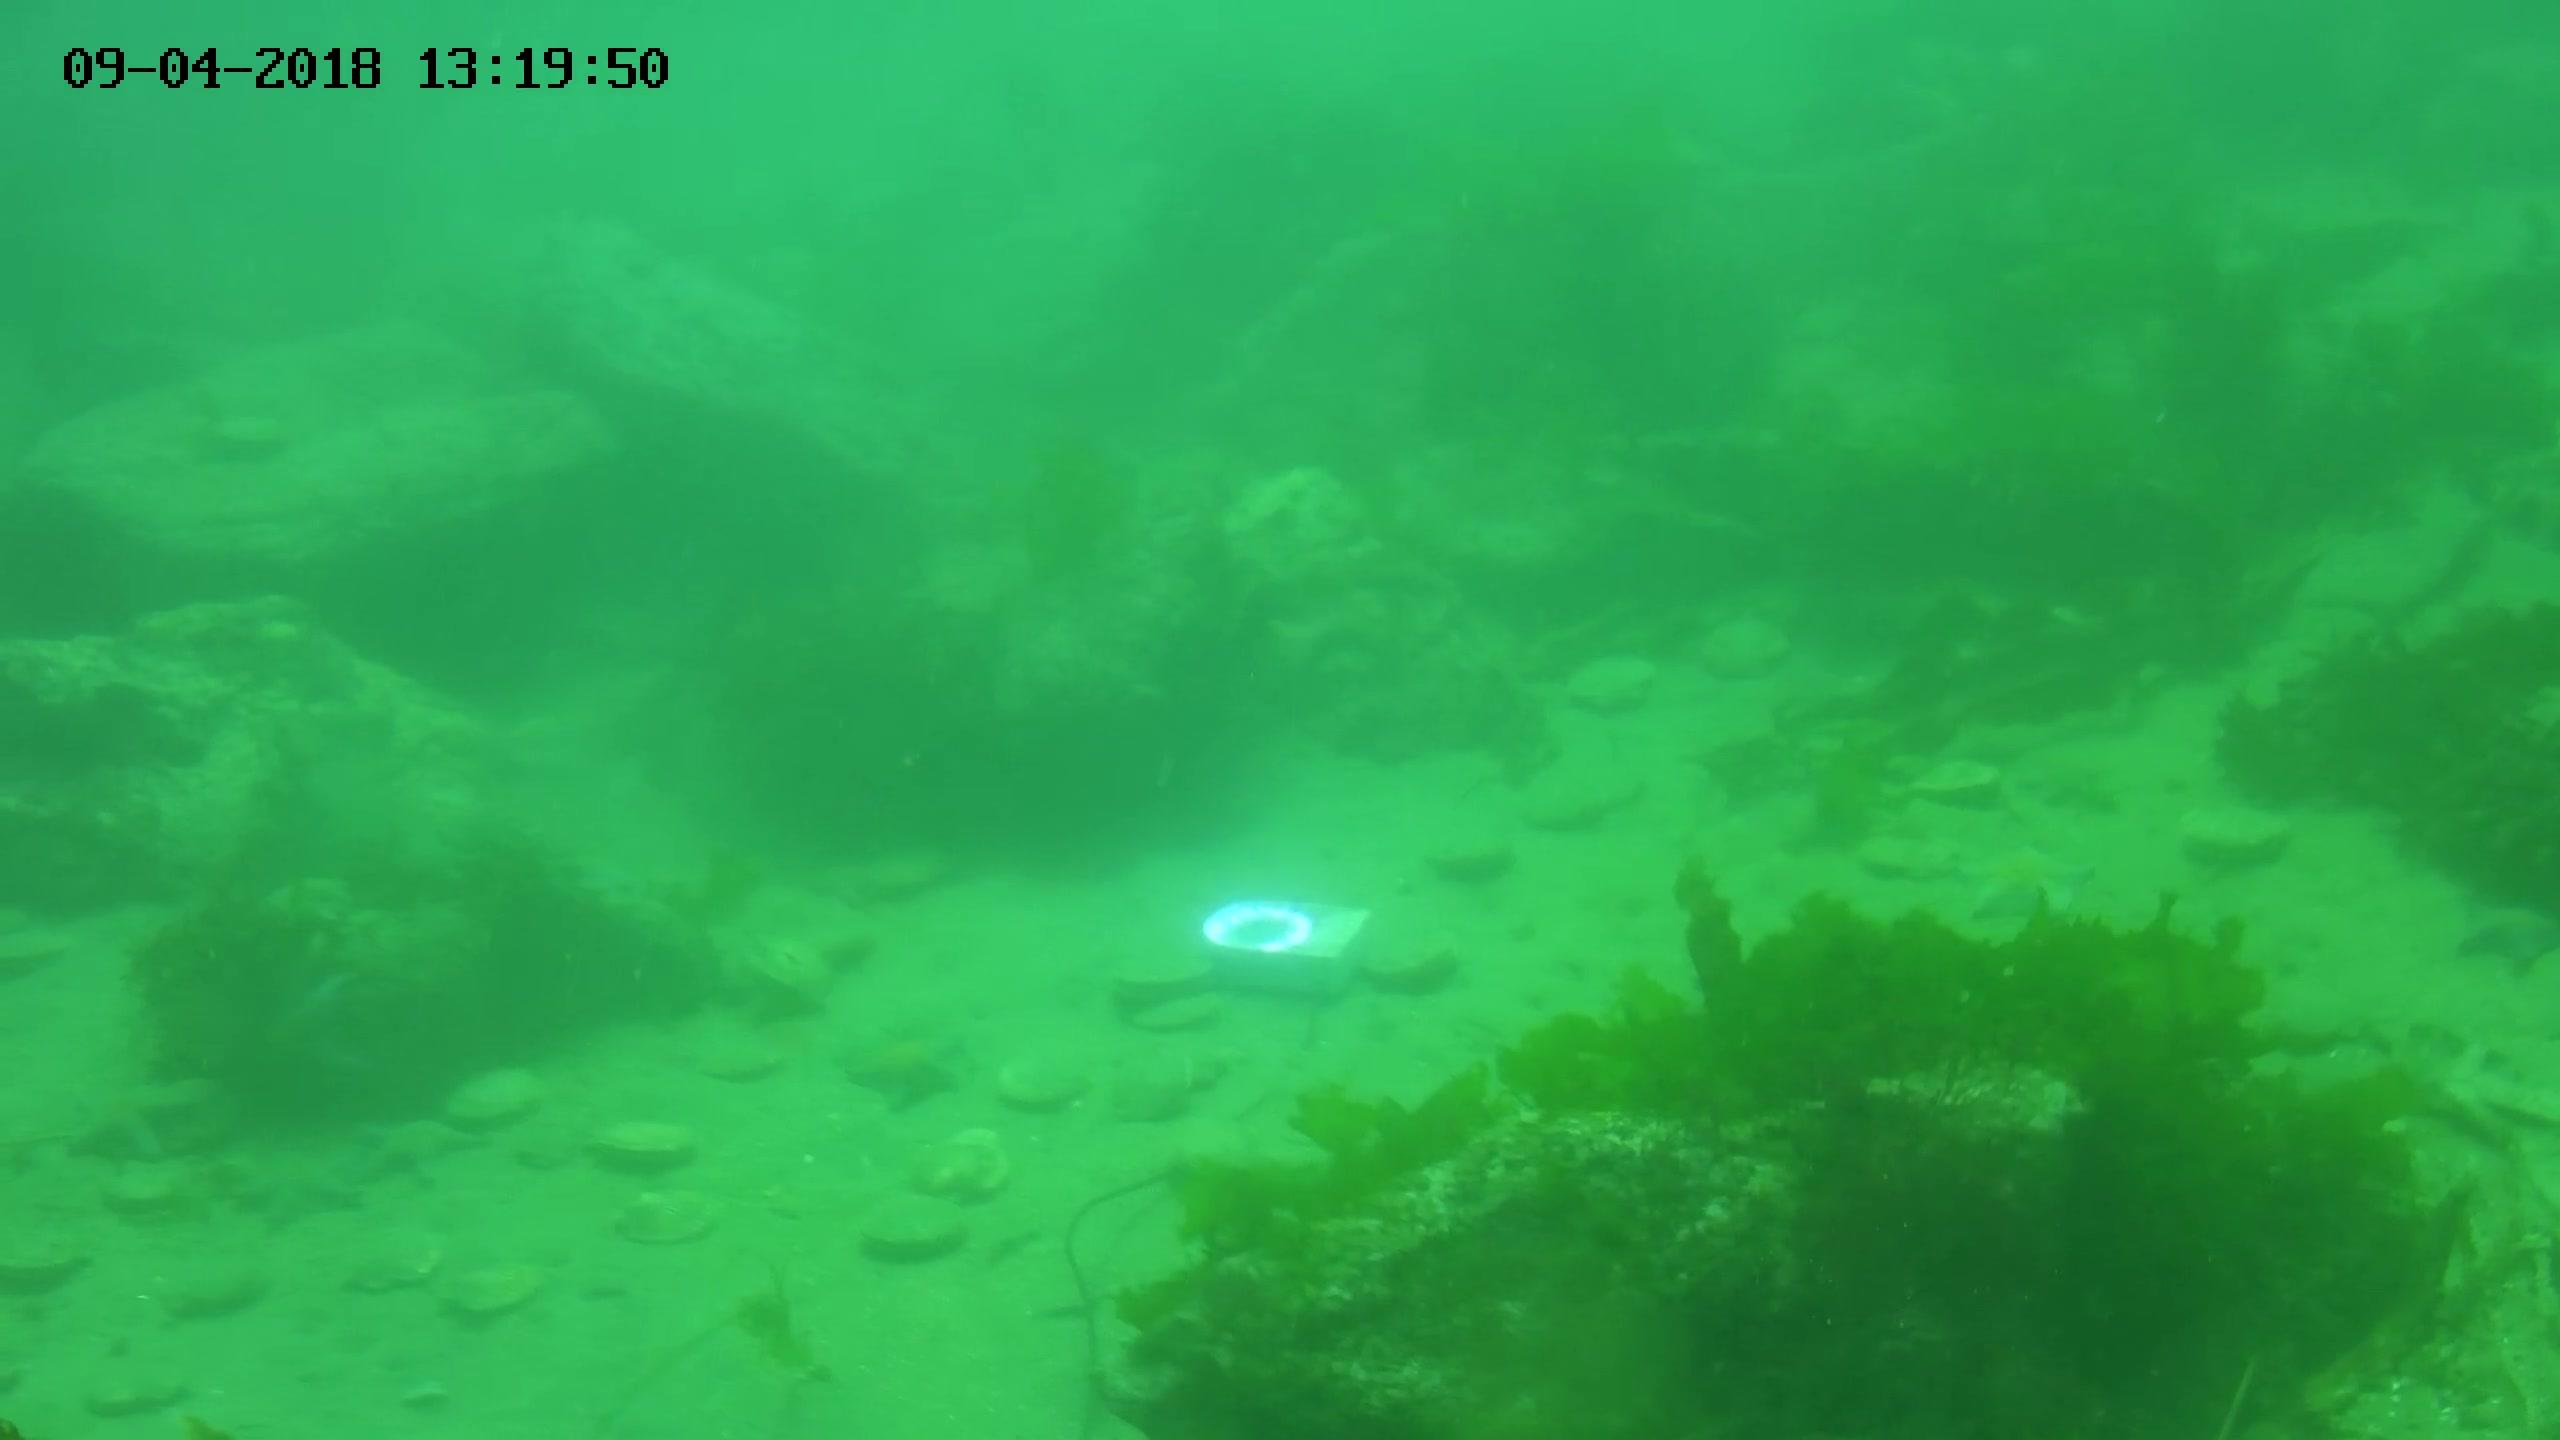scallop: (1503, 742, 1647, 828), (2180, 791, 2305, 858), (615, 1173, 724, 1247), (336, 1227, 443, 1301), (860, 1190, 965, 1262), (585, 1109, 696, 1173), (925, 1122, 1015, 1199), (165, 1255, 271, 1320), (1000, 1044, 1097, 1109), (77, 1364, 192, 1419), (1415, 826, 1516, 886), (1366, 927, 1456, 993), (2, 1224, 97, 1285), (1698, 612, 1786, 675), (447, 1259, 542, 1317), (447, 1064, 549, 1116), (1108, 951, 1213, 999), (1915, 749, 1997, 807), (1568, 656, 1655, 710), (696, 1036, 788, 1087), (1136, 999, 1227, 1036)
starfish: (60, 1064, 211, 1159), (1962, 832, 2094, 920), (239, 1146, 362, 1233), (373, 1104, 484, 1187), (842, 1041, 960, 1111), (2456, 890, 2560, 964)
